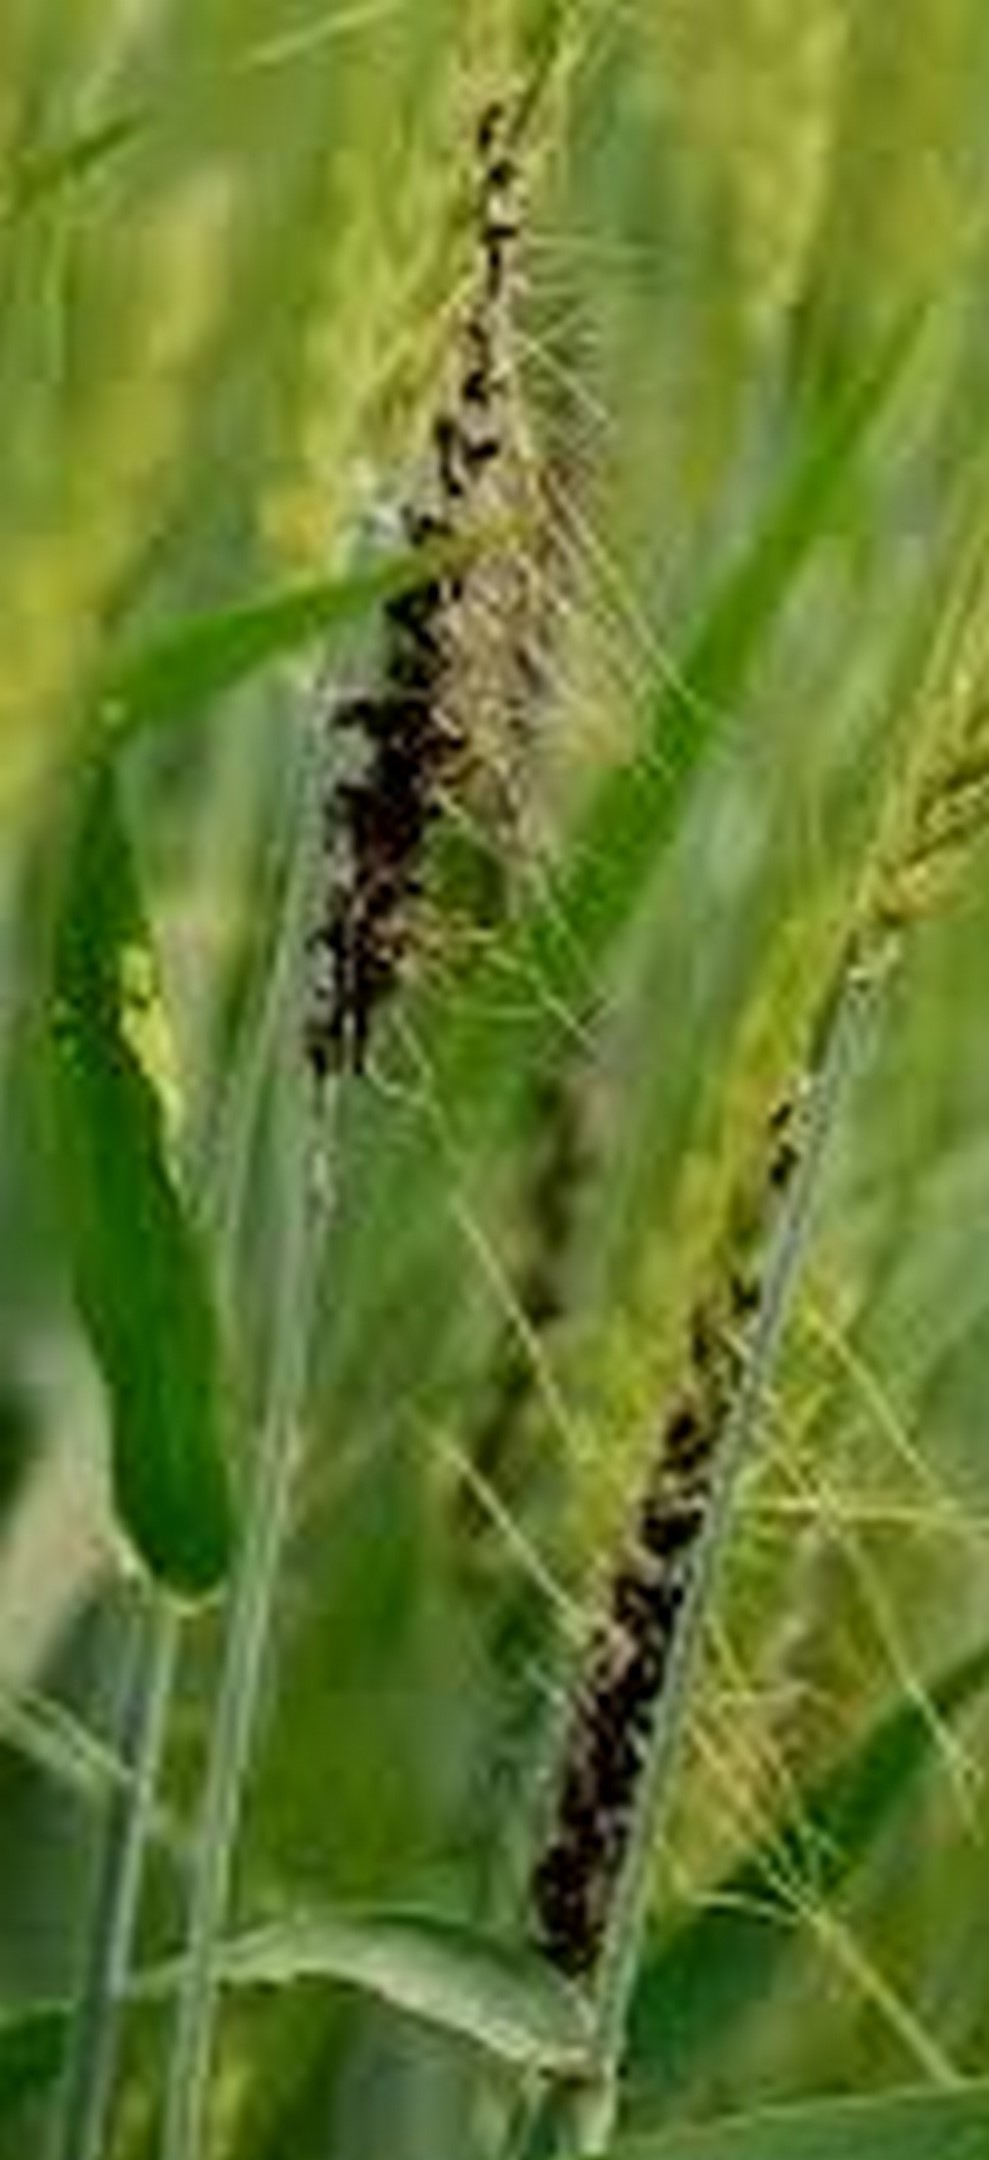Wheat Loose Smut: (511, 1260, 846, 1959), (293, 377, 570, 1063)
